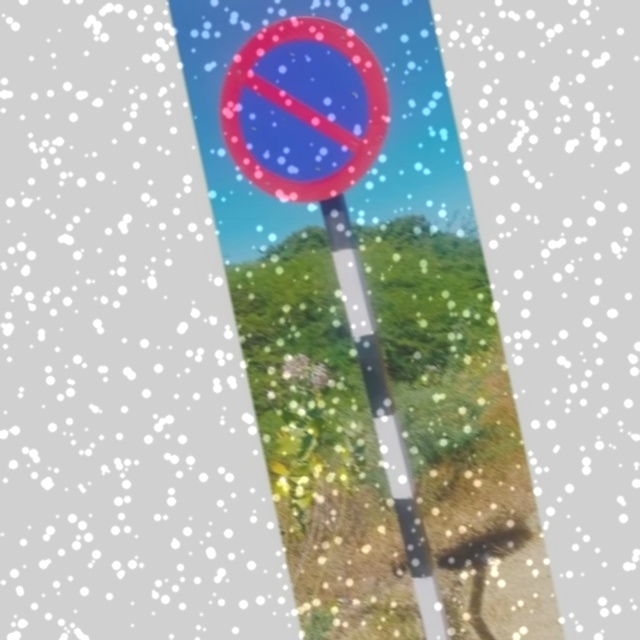No_Stopping_or_Standing: (210, 3, 399, 214)
